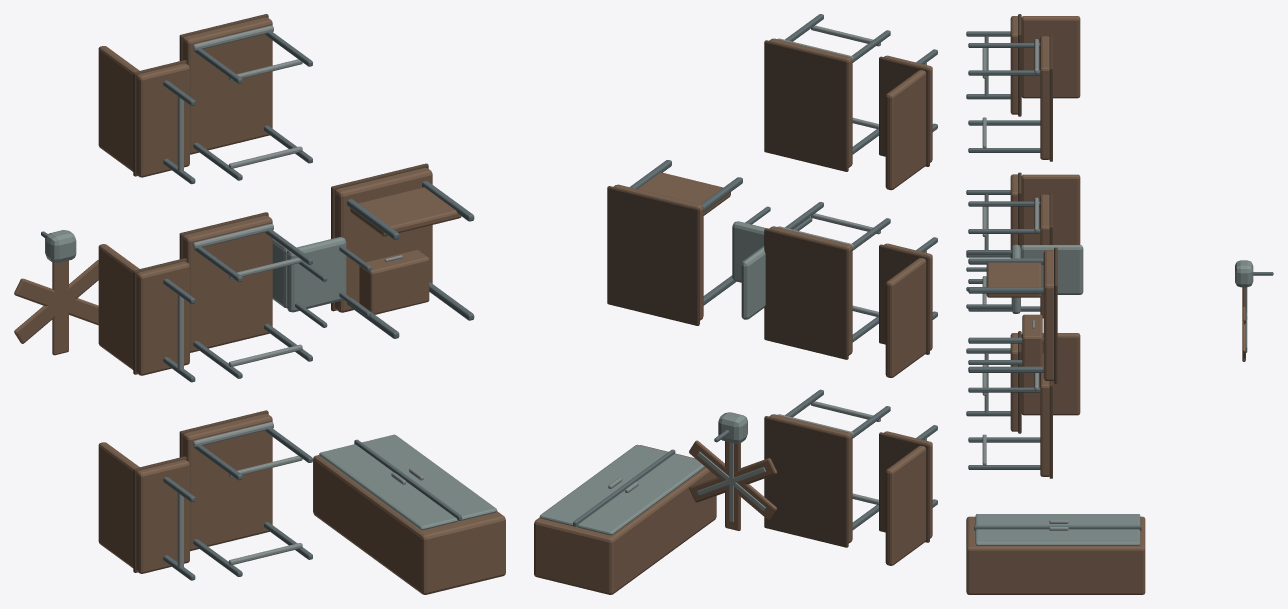
Rendered from classroom1_furniture.glb.
3 renders of one model, left to right at view 1: azimuth 30°, elevation 25°; view 2: azimuth 150°, elevation 25°; view 3: azimuth 270°, elevation 25°, orthographic. The views are drawn at different scales.
Visible parts, largest first — view 1: Class Cabinet carcass, Student Desk 3 tabletop, Student Desk 2 tabletop, Student Desk 1 tabletop, Teacher Desk tabletop, Shared Bench 2 seat, Shared Bench 1 seat, Shared Bench 3 seat, Class Cabinet left door, Shared Bench 2 backrest, Shared Bench 3 backrest, Shared Bench 1 backrest (+11 smaller); view 2: Teacher Desk dark perimeter, Class Cabinet carcass, Student Desk 3 dark edge band, Student Desk 2 dark edge band, Student Desk 1 dark edge band, Shared Bench 1 backrest, Shared Bench 3 backrest, Shared Bench 2 backrest, Class Cabinet left door, Class Cabinet right door, Shared Bench 1 seat rim, Shared Bench 2 seat rim (+13 smaller); view 3: Class Cabinet carcass, Shared Bench 3 backrest, Shared Bench 2 backrest, Shared Bench 1 backrest, Class Cabinet right door, Class Cabinet left door, Teacher Chair back, Teacher Desk modesty apron, Teacher Desk tabletop, Student Desk 3 tabletop, Teacher Desk drawer bank, Student Desk 1 tabletop (+16 smaller).
Boxes of the visible parts, left/top/right/bottom form: Class Cabinet carcass: left=313, top=455, right=505, bottom=594; Student Desk 3 tabletop: left=182, top=17, right=272, bottom=154; Student Desk 2 tabletop: left=182, top=215, right=272, bottom=352; Student Desk 1 tabletop: left=182, top=413, right=272, bottom=551; Teacher Desk tabletop: left=334, top=167, right=432, bottom=312; Shared Bench 2 seat: left=136, top=261, right=189, bottom=375; Shared Bench 1 seat: left=136, top=459, right=189, bottom=573; Shared Bench 3 seat: left=136, top=63, right=189, bottom=177; Class Cabinet left door: left=319, top=444, right=457, bottom=530; Shared Bench 2 backrest: left=98, top=244, right=139, bottom=369; Shared Bench 3 backrest: left=98, top=46, right=139, bottom=171; Shared Bench 1 backrest: left=98, top=442, right=139, bottom=567; Teacher Desk dark perimeter: left=607, top=186, right=699, bottom=325; Class Cabinet carcass: left=534, top=445, right=716, bottom=594; Student Desk 3 dark edge band: left=764, top=40, right=848, bottom=171; Student Desk 2 dark edge band: left=764, top=228, right=848, bottom=359; Student Desk 1 dark edge band: left=764, top=416, right=848, bottom=547; Shared Bench 1 backrest: left=885, top=445, right=926, bottom=565; Shared Bench 3 backrest: left=885, top=70, right=926, bottom=190; Shared Bench 2 backrest: left=885, top=258, right=926, bottom=377; Class Cabinet left door: left=577, top=454, right=704, bottom=535; Class Cabinet right door: left=539, top=444, right=667, bottom=526; Shared Bench 1 seat rim: left=879, top=432, right=929, bottom=542; Shared Bench 2 seat rim: left=879, top=244, right=929, bottom=354; Class Cabinet carcass: left=966, top=516, right=1145, bottom=594; Shared Bench 3 backrest: left=1021, top=16, right=1080, bottom=98; Shared Bench 2 backrest: left=1021, top=174, right=1080, bottom=245; Shared Bench 1 backrest: left=1021, top=333, right=1080, bottom=415; Class Cabinet right door: left=975, top=529, right=1140, bottom=545; Class Cabinet left door: left=975, top=514, right=1140, bottom=525; Teacher Chair back: left=1020, top=245, right=1083, bottom=294; Teacher Desk modesty apron: left=986, top=262, right=1041, bottom=297; Teacher Desk tabletop: left=1043, top=250, right=1053, bottom=380; Student Desk 3 tabletop: left=1040, top=36, right=1049, bottom=159; Teacher Desk drawer bank: left=1022, top=314, right=1042, bottom=366; Student Desk 1 tabletop: left=1040, top=353, right=1049, bottom=476.
Size of the model in its own units: 3.09 by 4.94 by 3.02.
